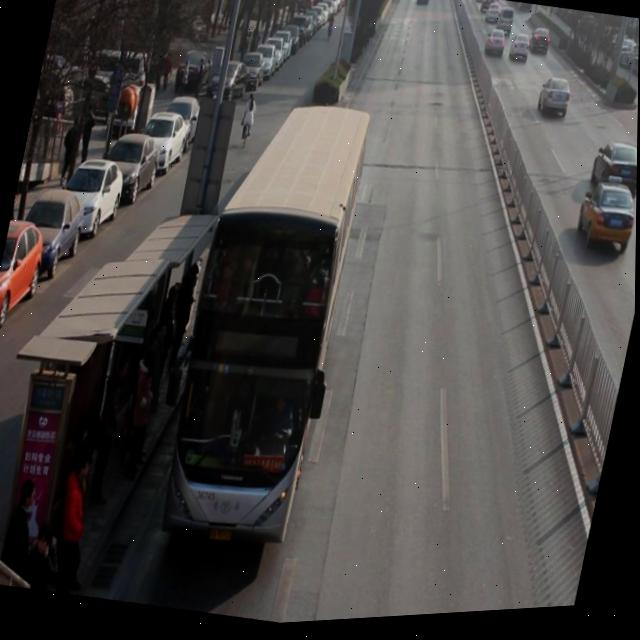car: (573, 178, 638, 266), (587, 143, 638, 213), (535, 80, 576, 130), (527, 31, 554, 67), (507, 37, 534, 71), (483, 30, 508, 66), (484, 4, 504, 31), (416, 0, 431, 13)
truck: (494, 11, 517, 45)
van: (155, 92, 375, 551)
